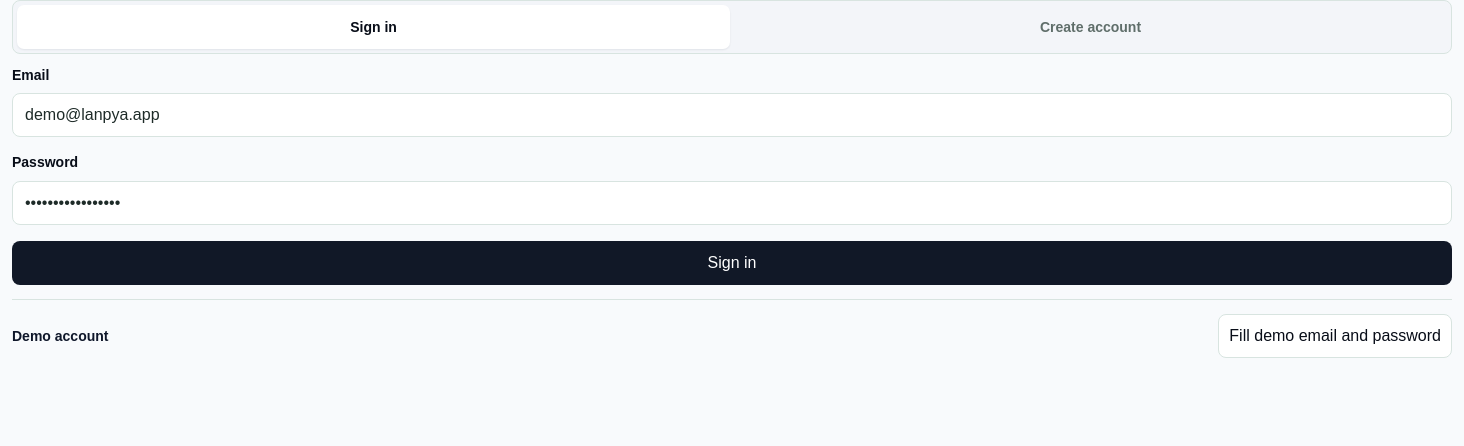
Test: EmailAuthForm › shows the credential error when the server rejects the sign-in
Click the 2nd button "Sign in": (732, 262) [12,240,1452,284]
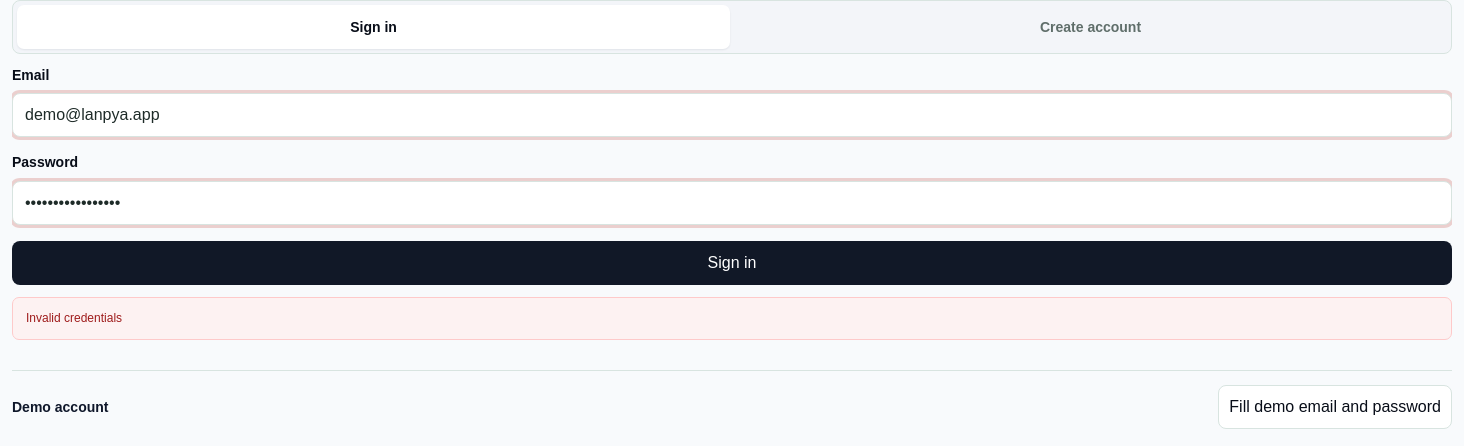
expect the message reads "Invalid credentials": met, box [26,310,122,324]
